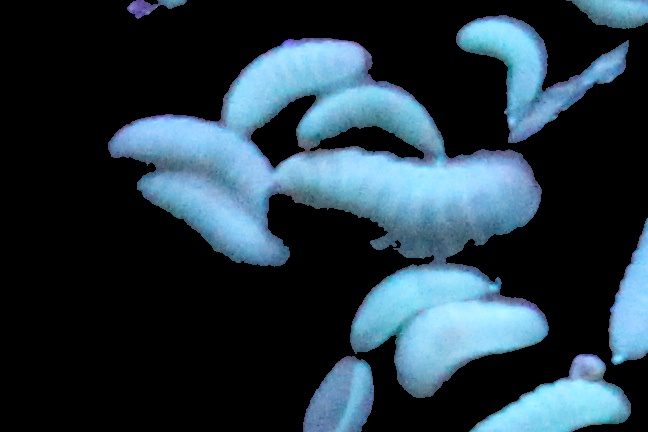larvae: (279, 147, 543, 246), (136, 171, 289, 273), (395, 298, 547, 398), (111, 115, 274, 197), (351, 265, 503, 346), (451, 17, 547, 122), (298, 85, 444, 154), (457, 380, 628, 432), (218, 38, 365, 97), (605, 206, 648, 368), (560, 1, 648, 30)
